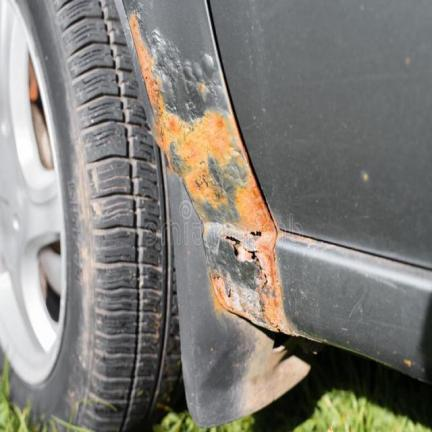karat: (125, 13, 288, 338)
